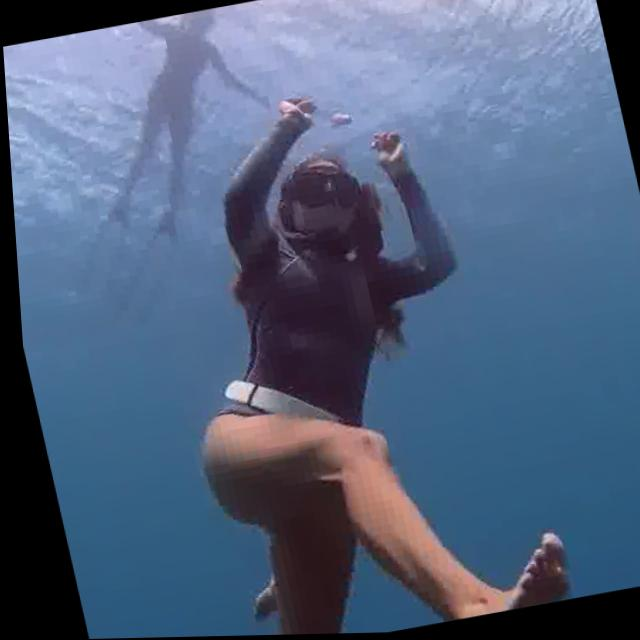human: (102, 58, 584, 638), (55, 1, 301, 251)
